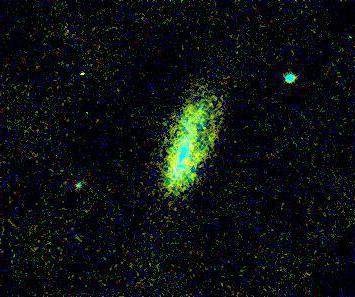star: (182, 159, 212, 189)
